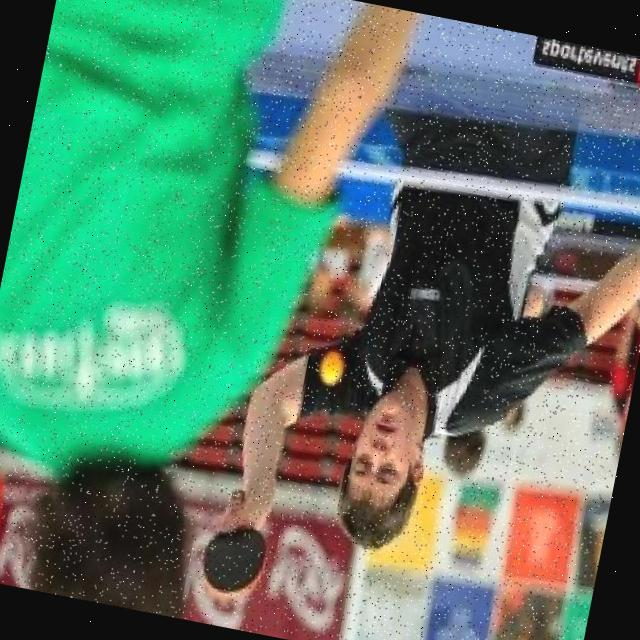ping-pong-ball: (314, 350, 348, 392)
